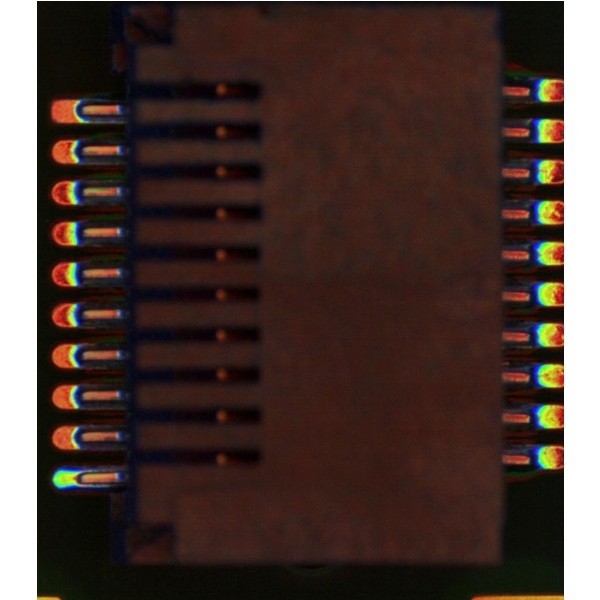Bad_qiaojiao: (83, 467, 116, 472), (81, 483, 119, 487)
